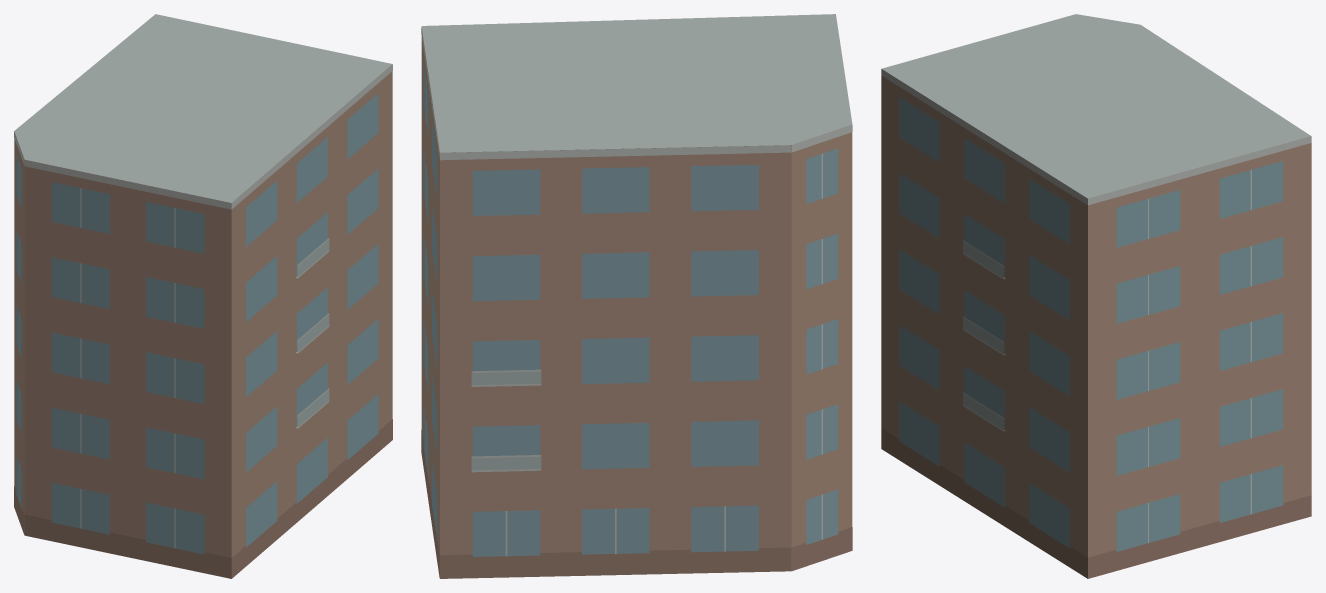
Rendered from survey-upis-33038133.glb.
The picture shows the model from 3 angles, left to right: view 1: azimuth 30°, elevation 25°; view 2: azimuth 150°, elevation 25°; view 3: azimuth 270°, elevation 25°; orthographic projection. The views are drawn at different scales.
Visible parts, largest first — view 1: survey-upis-33038133.tmp; view 2: survey-upis-33038133.tmp; view 3: survey-upis-33038133.tmp.
Boxes of the visible parts, left/top/right/bottom form: survey-upis-33038133.tmp: left=14, top=14, right=392, bottom=578; survey-upis-33038133.tmp: left=421, top=14, right=852, bottom=578; survey-upis-33038133.tmp: left=881, top=14, right=1311, bottom=578.
Bounding box in the file's own units: 14.44 × 13.85 × 14.21.
